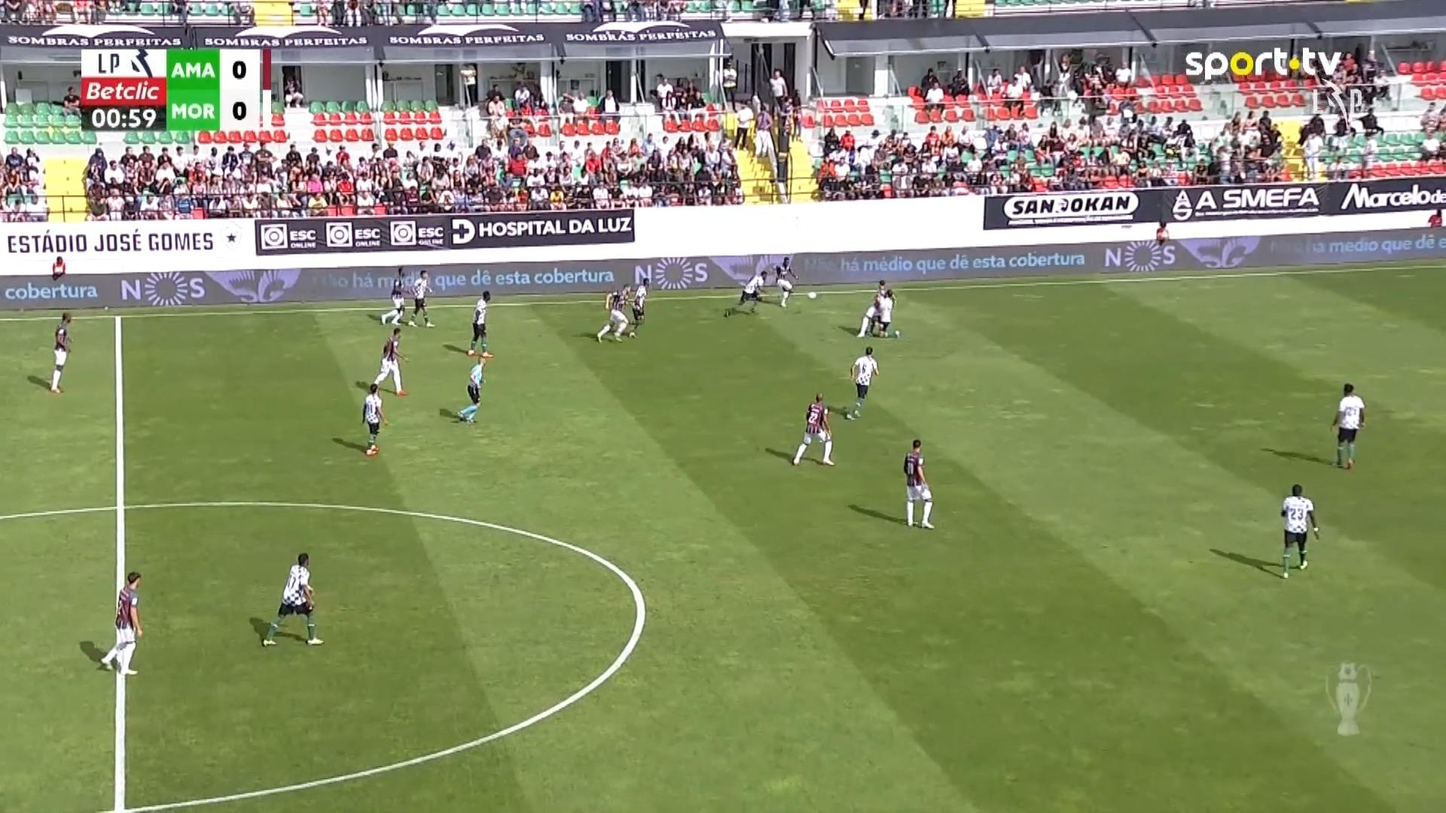ball: (807, 291, 816, 299)
player: (261, 552, 324, 646), (98, 571, 144, 675), (1279, 483, 1319, 578), (791, 391, 835, 466), (1330, 382, 1365, 469), (902, 438, 935, 528), (844, 345, 880, 419), (372, 326, 409, 396), (596, 283, 633, 343), (48, 311, 73, 393), (361, 382, 388, 456), (856, 280, 887, 337), (467, 289, 492, 355), (380, 266, 407, 326), (407, 269, 434, 327), (773, 256, 798, 307), (628, 277, 648, 336), (874, 287, 897, 338), (739, 269, 767, 308)
referee: (455, 349, 493, 423)
